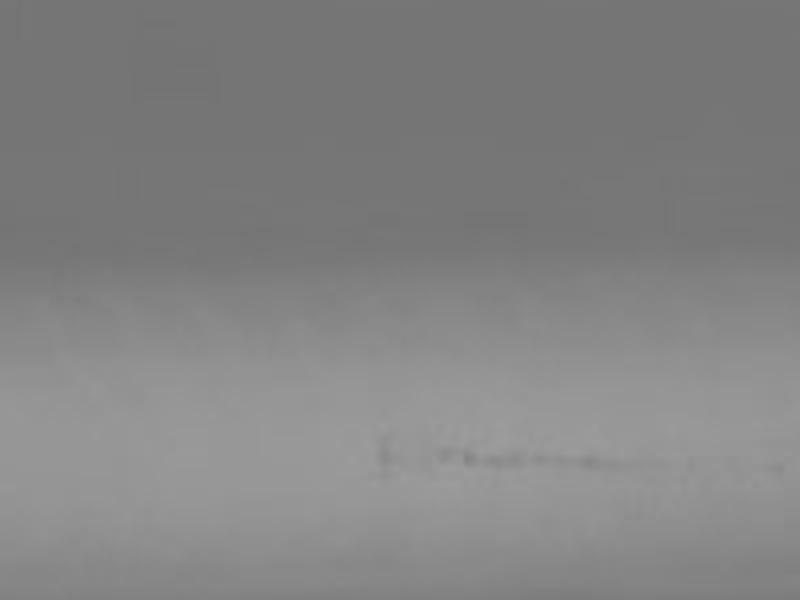defect: (374, 430, 393, 465), (460, 443, 480, 467), (507, 448, 527, 472), (483, 449, 504, 471), (435, 442, 452, 463), (583, 449, 598, 470)
